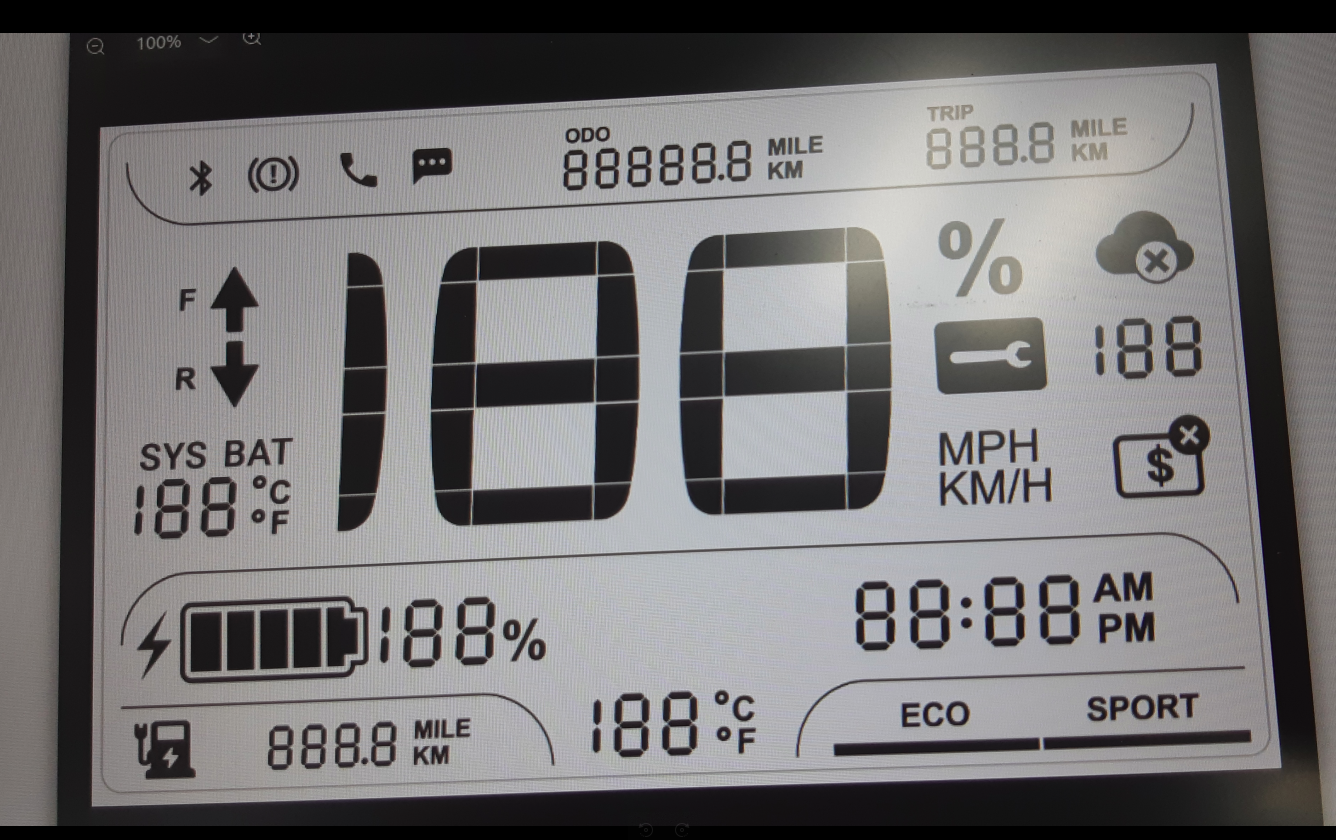bluetooth_on: (184, 156, 222, 202)
braking_on: (243, 151, 305, 197)
calling_on: (333, 146, 383, 190)
connection_lost: (1091, 205, 1200, 289)
error_code: (930, 314, 1053, 397)
low_battery: (129, 714, 206, 783)
sms_on: (406, 143, 457, 191)
vin_id: (1108, 409, 1216, 504)
